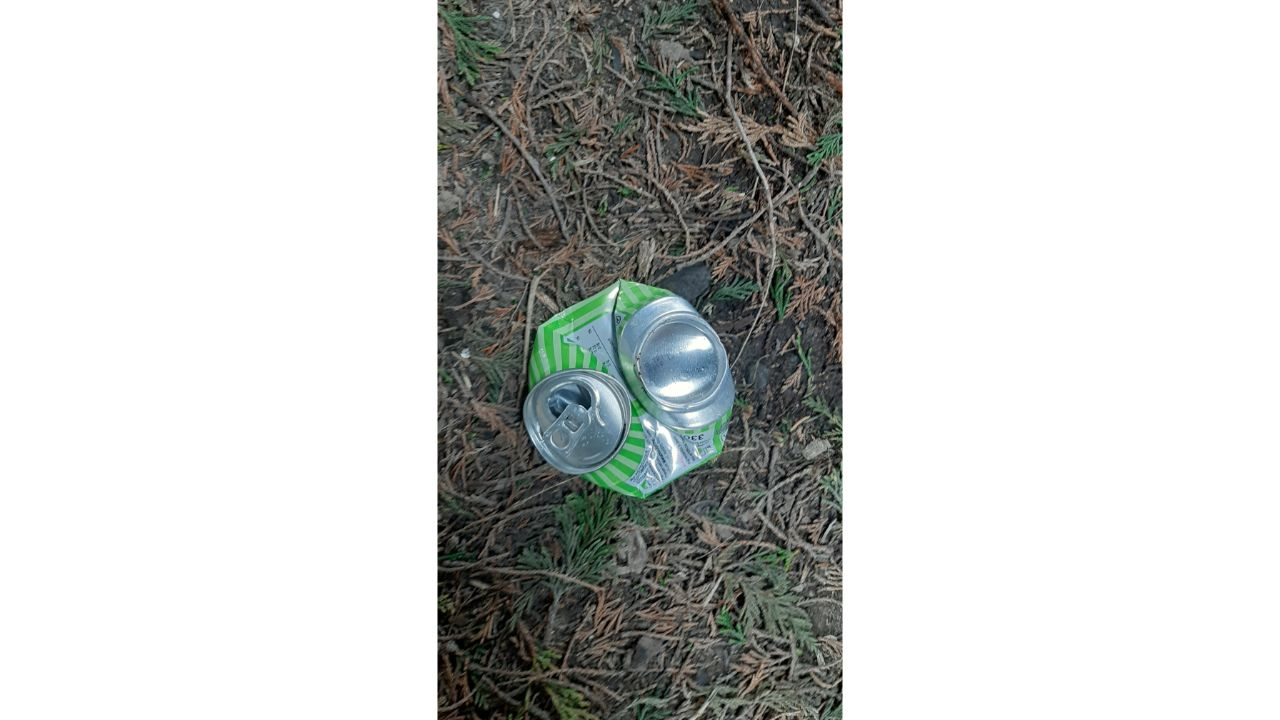Can: (519, 278, 734, 507)
